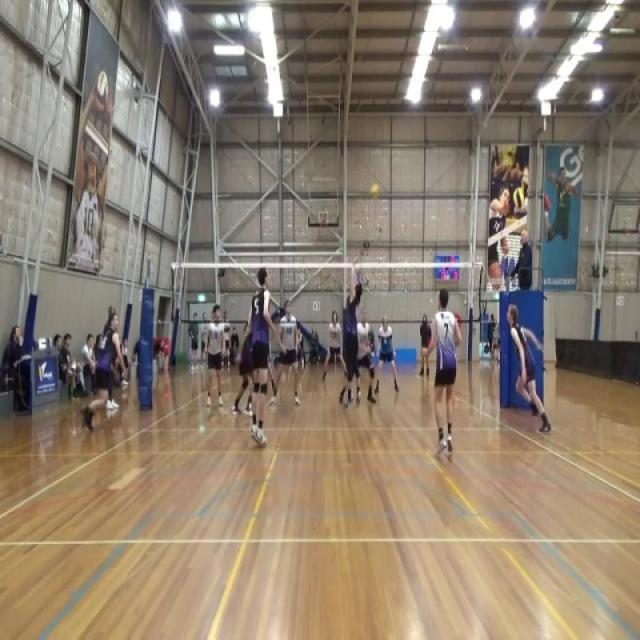volleyball: (95, 70, 110, 114), (512, 187, 526, 210), (370, 182, 380, 202)
